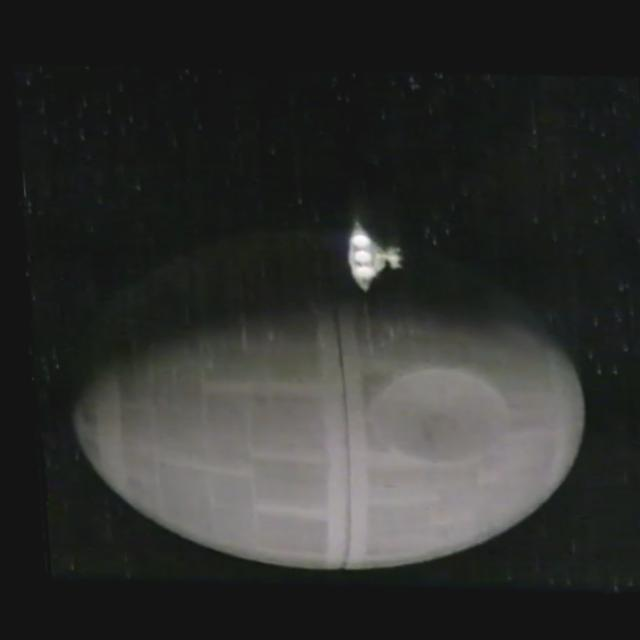deathStar: (44, 261, 584, 572)
